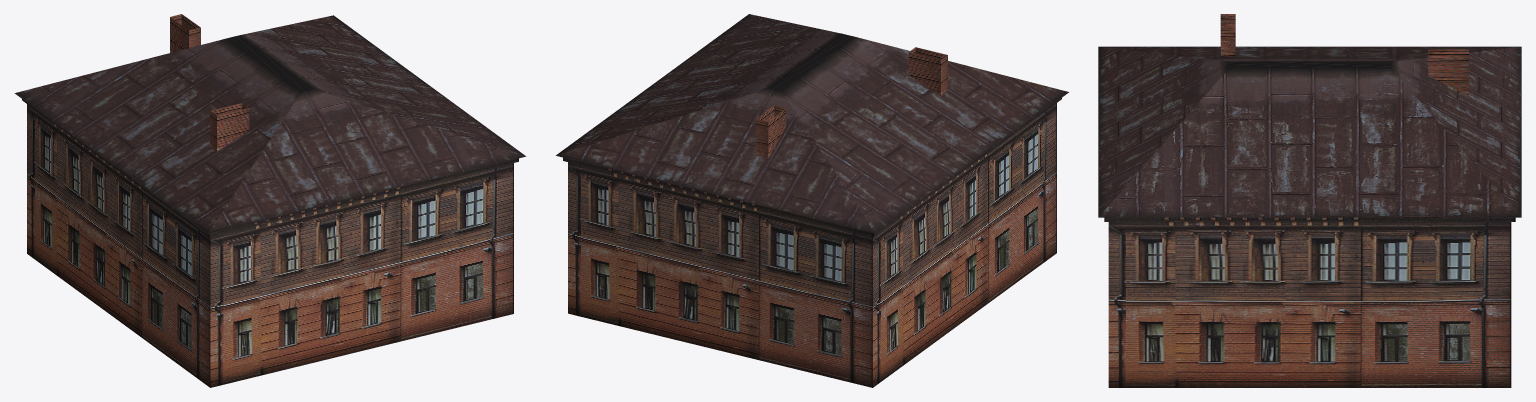
Rendered from sibir_dom_2et2.FBX.
3 renders of one model, left to right at view 1: azimuth 30°, elevation 25°; view 2: azimuth 150°, elevation 25°; view 3: azimuth 270°, elevation 25°, orthographic. The views are drawn at different scales.
Visible parts, largest first — view 1: sibir_dom_2et2; view 2: sibir_dom_2et2; view 3: sibir_dom_2et2.
Boxes of the visible parts, bbox=[...] form: sibir_dom_2et2: bbox=[14, 14, 526, 387]; sibir_dom_2et2: bbox=[556, 14, 1068, 387]; sibir_dom_2et2: bbox=[1098, 14, 1521, 387].
Bounding box in the file's own units: 1435 × 1502 × 948.
